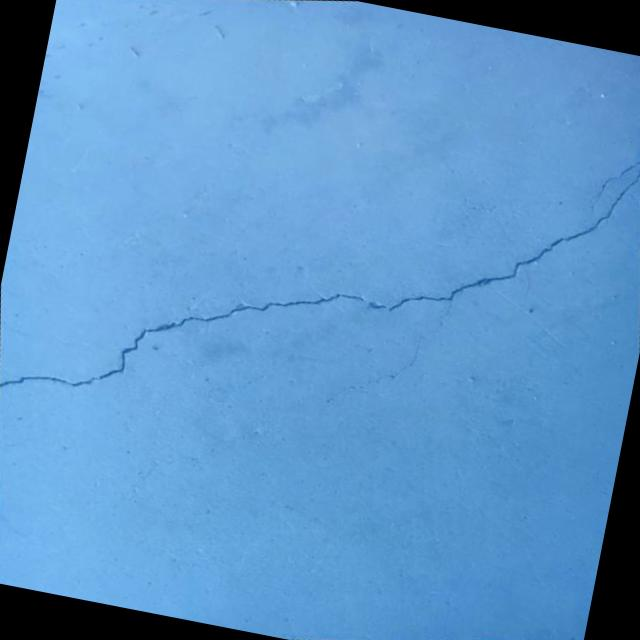crack: (0, 45, 640, 508), (356, 333, 426, 394)
